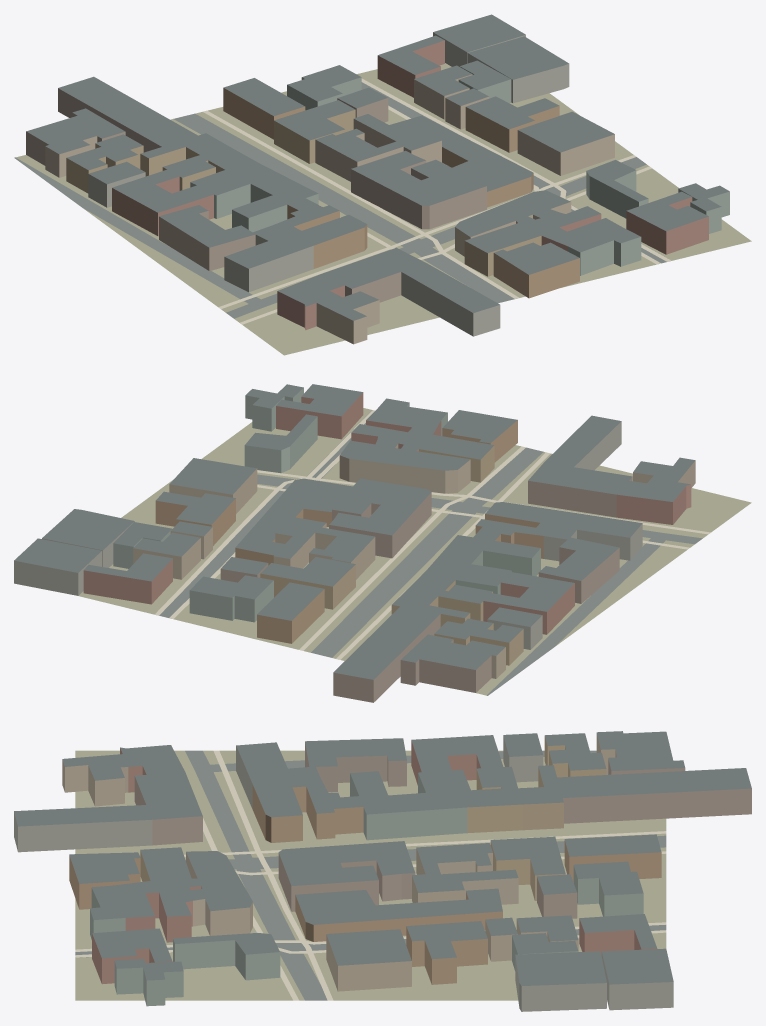
File: sector-0_-4.glb
The picture shows the model from 3 angles, top to bottom: view 1: azimuth 30°, elevation 25°; view 2: azimuth 150°, elevation 25°; view 3: azimuth 270°, elevation 25°; orthographic projection. The views are drawn at different scales.
Parts seen in each view (by area): view 1: 0:-4-roof, 0:-4-facade, 0:-4-ground, 0:-4-road, 0:-4-paving; view 2: 0:-4-roof, 0:-4-facade, 0:-4-ground, 0:-4-road, 0:-4-paving; view 3: 0:-4-roof, 0:-4-facade, 0:-4-ground, 0:-4-road, 0:-4-paving.
Boxes of the visible parts, x1,y1,x2,y2 form: 0:-4-roof: [26, 14, 729, 320]; 0:-4-facade: [26, 32, 729, 344]; 0:-4-ground: [16, 63, 751, 355]; 0:-4-road: [14, 82, 671, 318]; 0:-4-paving: [203, 78, 671, 324]; 0:-4-roof: [14, 384, 695, 679]; 0:-4-facade: [14, 388, 695, 702]; 0:-4-ground: [79, 408, 751, 695]; 0:-4-road: [159, 410, 702, 695]; 0:-4-paving: [155, 410, 710, 659]; 0:-4-roof: [14, 731, 751, 985]; 0:-4-facade: [14, 733, 751, 1011]; 0:-4-ground: [75, 750, 666, 1000]; 0:-4-road: [75, 750, 666, 1000]; 0:-4-paving: [75, 750, 666, 1000].
Size of the model in its own units: 209 by 9.6 by 250.
